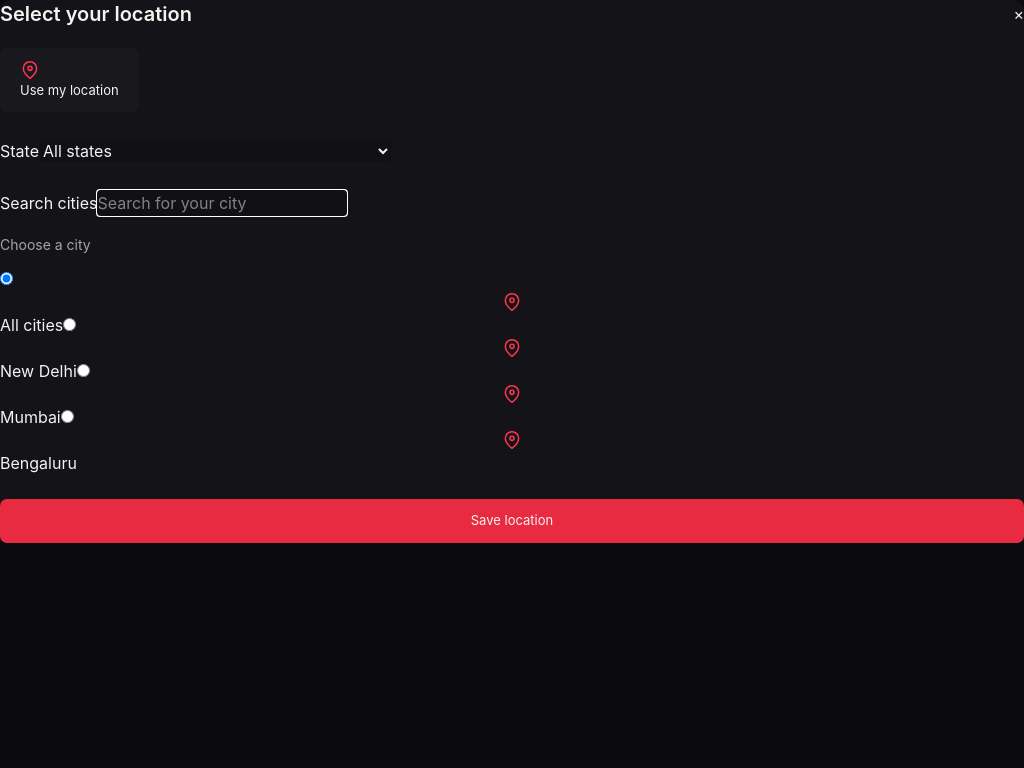
Scenario: filters supported city choices by state and combines city search with that state
The width and height of the screenshot is (1024, 768).
Expected: the radio button labelled "Mumbai" is shown, [77,364,90,376]
Select "Maharashtra" in the dropdown labelled "State" at (215, 150), box [39,140,391,162]
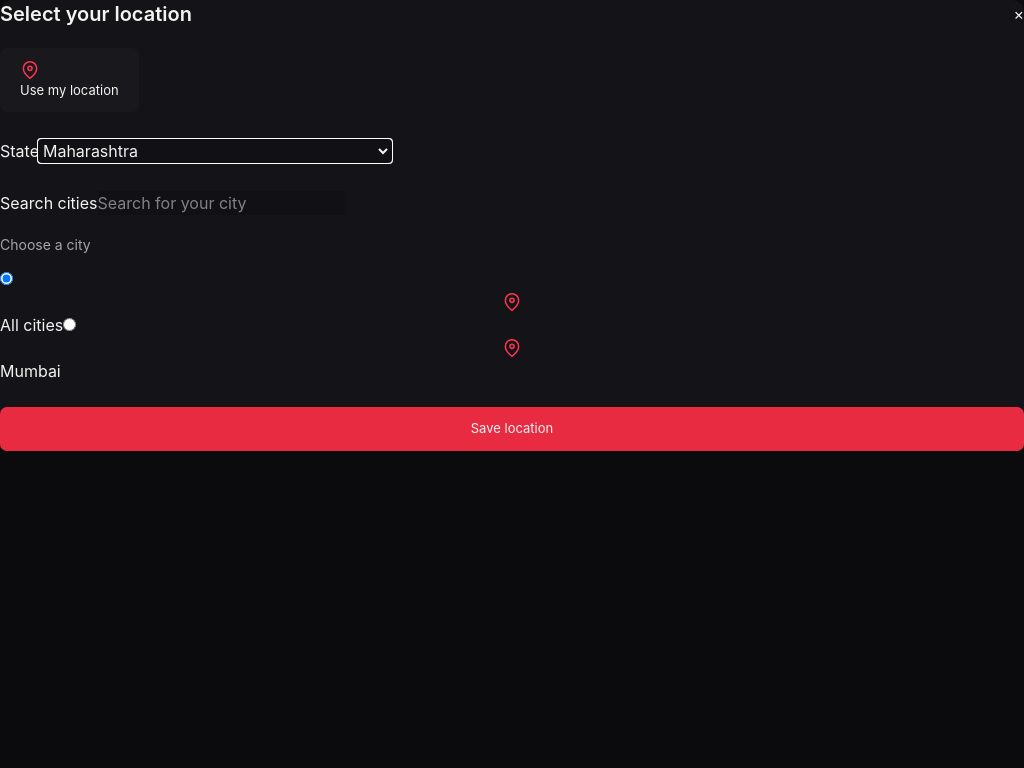
Expected: the radio button labelled "Mumbai" is shown, [63,318,76,330]
Result: the label "New Delhi" is gone
Type "Bengaluru" into the search field.
click(222, 202); type("Bengaluru")  # box [98,190,346,214]
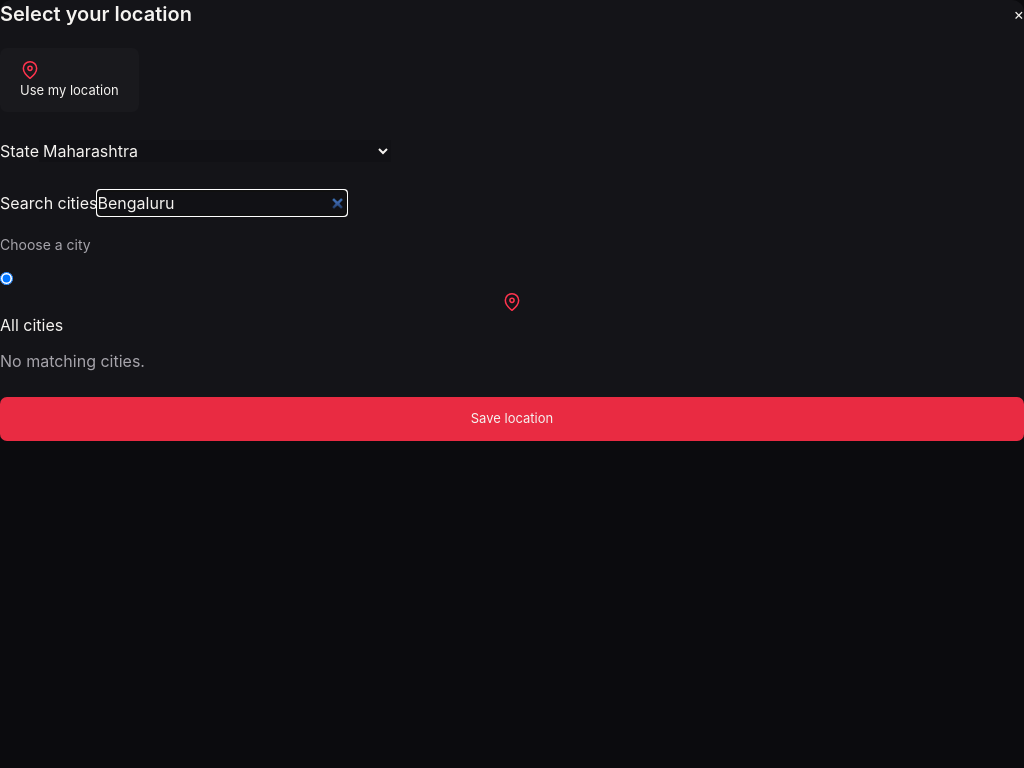
Result: the text "No matching cities." is shown at [0,350,145,370]
